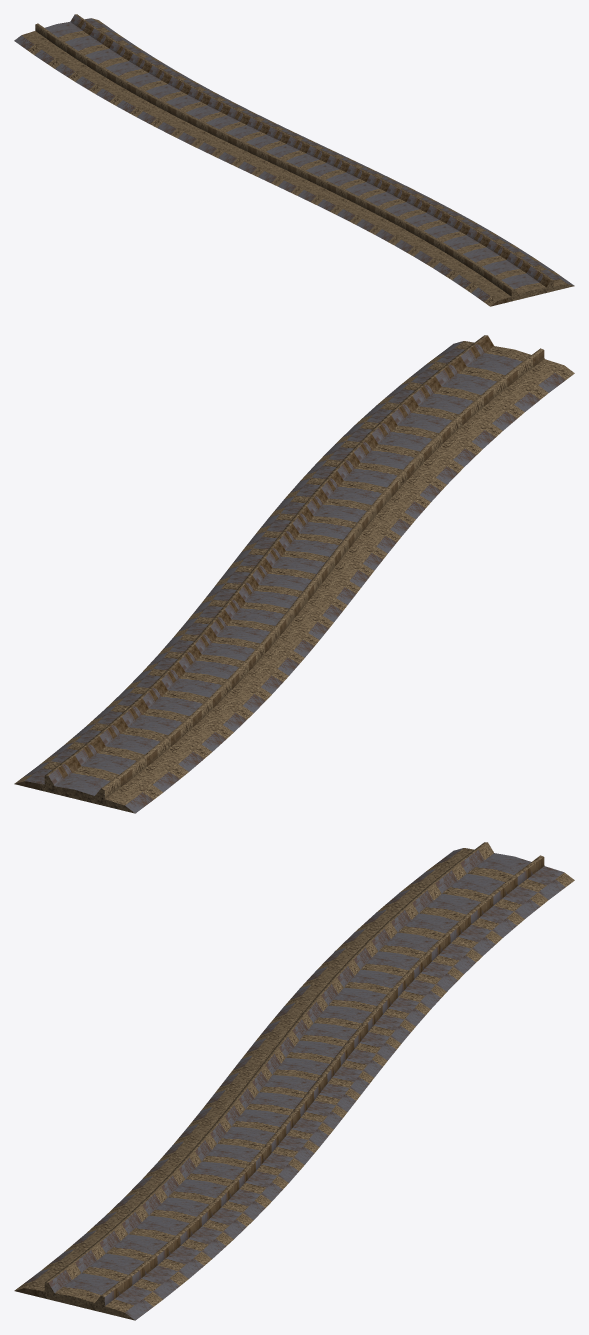
File: Rail bend to left_LOD2.fbx
3 renders of one model, top to bottom at view 1: azimuth 30°, elevation 25°; view 2: azimuth 150°, elevation 25°; view 3: azimuth 330°, elevation 25°, orthographic. The views are drawn at different scales.
Visible parts, largest first — view 1: Track_1; view 2: Track_1; view 3: Track_1.
Boxes of the visible parts, <box> form: Track_1: <box>14,14,574,306</box>; Track_1: <box>14,335,574,813</box>; Track_1: <box>14,842,574,1320</box>.
Size of the model in its own units: 200 by 13.15 by 800.
Materials: 1 (1 with a texture image).
